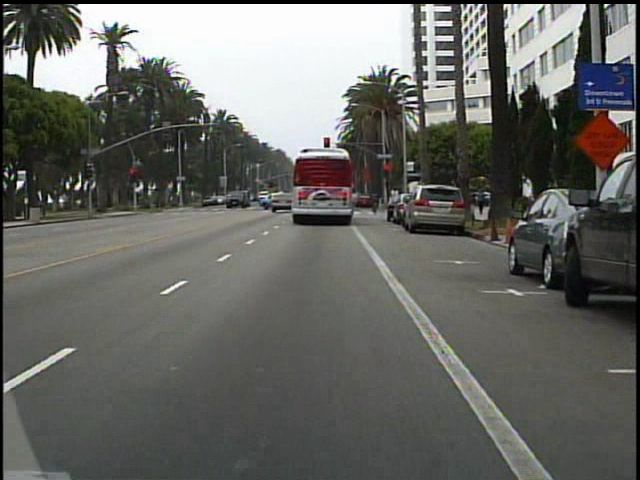person: (474, 184, 487, 216)
